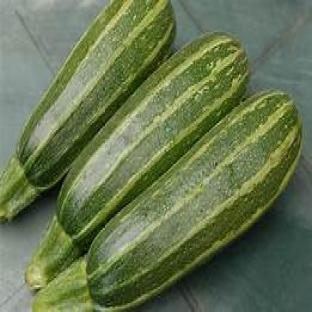Zucchini: (34, 91, 302, 311), (27, 34, 248, 287)
